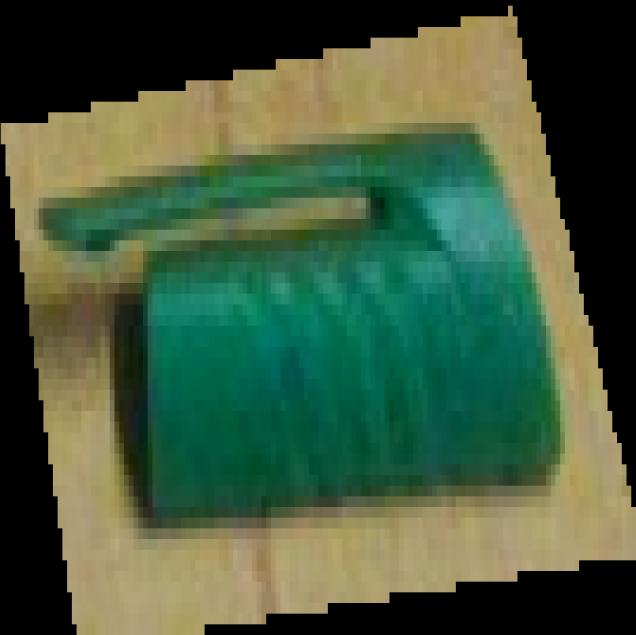green: (0, 1, 636, 635)
